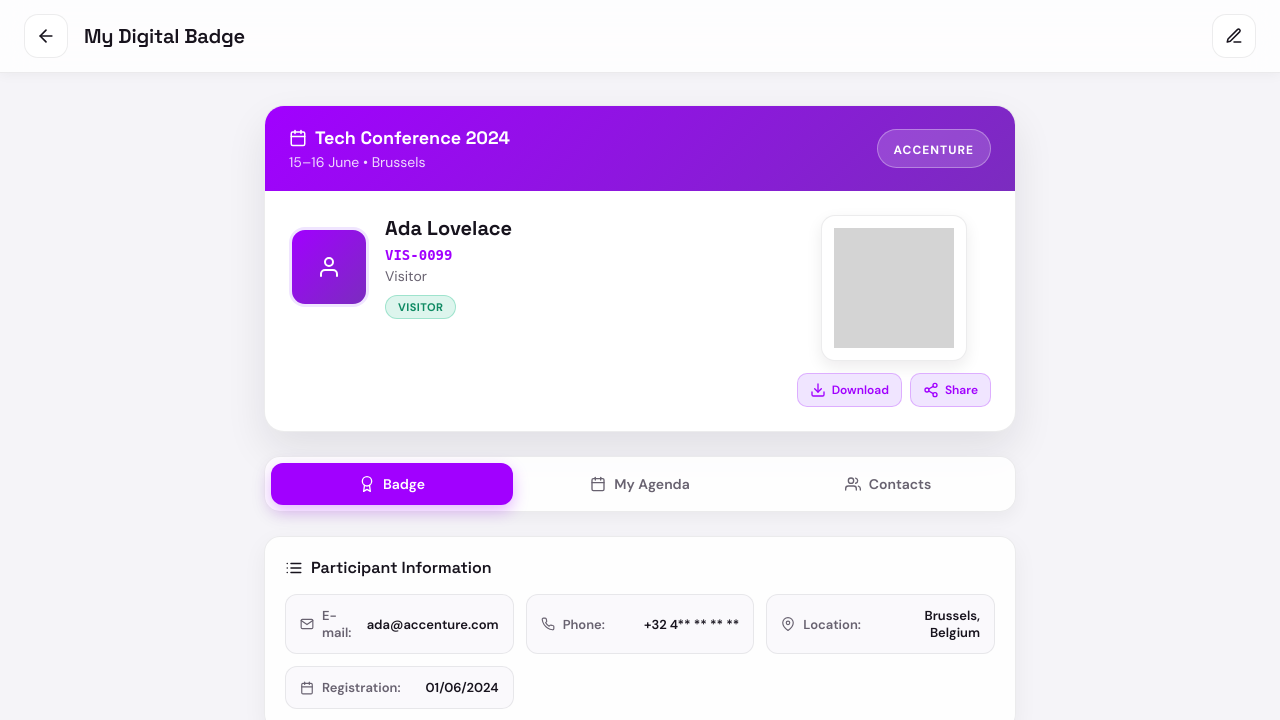
Scenario: UserProfile › switches to the agenda tab
Click the button "My Agenda" at (640, 484), box [519,463,761,505]
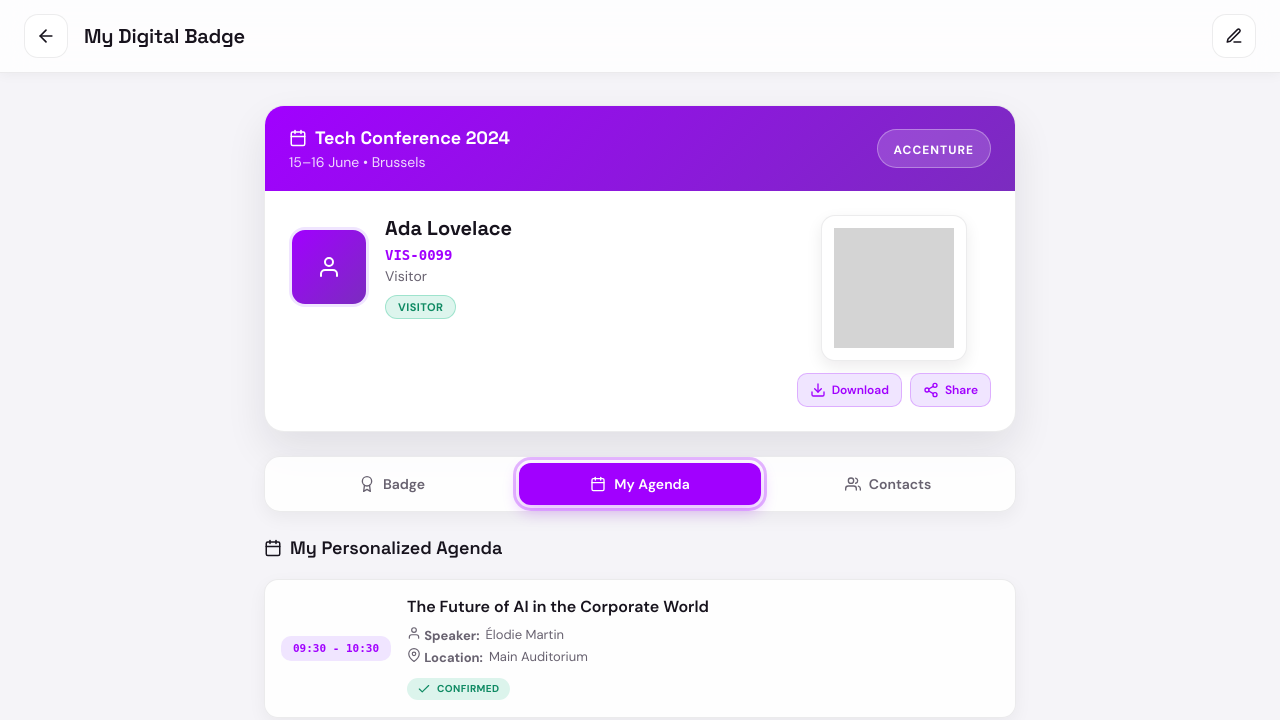
Check: the heading "My Personalized Agenda" is shown, box [264,536,502,559]
